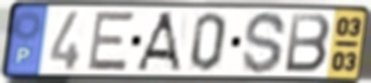0: (187, 10, 229, 75)
4: (47, 9, 82, 73)
A: (134, 10, 184, 74)
B: (283, 11, 333, 75)
E: (85, 9, 138, 73)
S: (240, 9, 289, 76)
